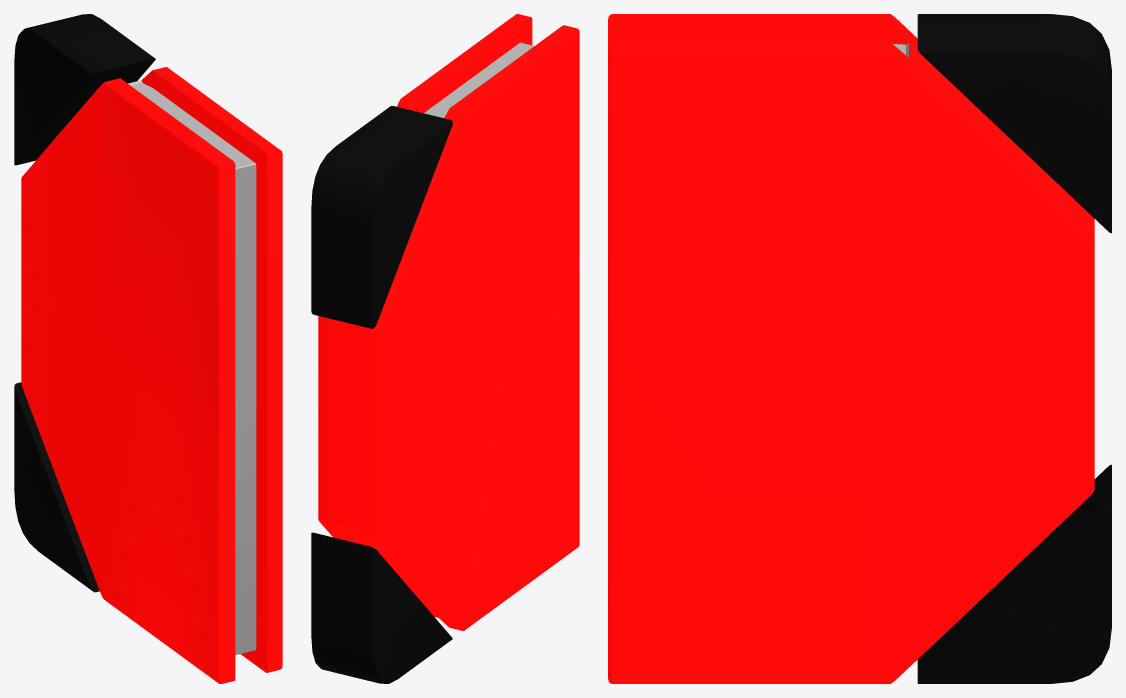
File: Portfolio.FBX
The picture shows the model from 3 angles, left to right: view 1: azimuth 30°, elevation 25°; view 2: azimuth 150°, elevation 25°; view 3: azimuth 270°, elevation 25°; orthographic projection. The views are drawn at different scales.
Parts seen in each view (by area): view 1: Box003; view 2: Box003; view 3: Box003.
Part boxes in pixels (x1,y1,x2,y2): Box003: [14, 14, 282, 683]; Box003: [311, 14, 579, 683]; Box003: [608, 14, 1111, 683].
Bounding box in the file's own units: 1.66 × 12.74 × 9.17.
